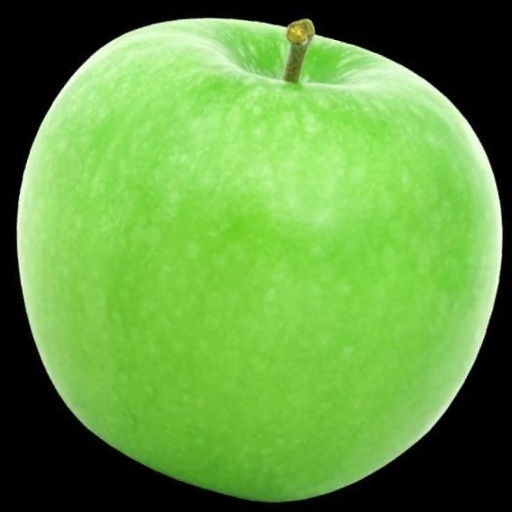fruit: (0, 75, 75, 430)
